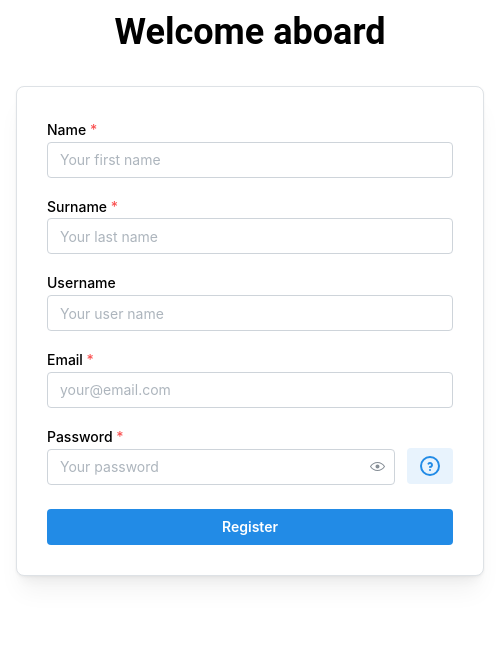
<RegisterForm/> › Handling submit test › should not submit and it will show errors if email or password pattern is not correct
Type "invalid" into the field labelled "Email" at [250, 390], box [47,372,453,408]
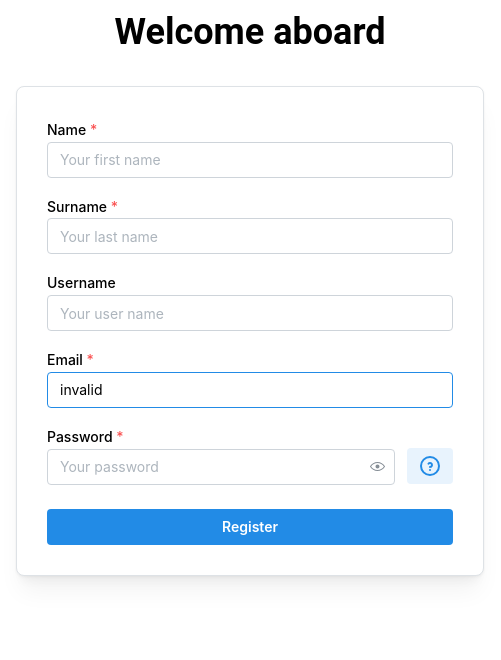
Type "invalid" into the password field with test id "register-password" at [221, 467], box [48,450,394,484]
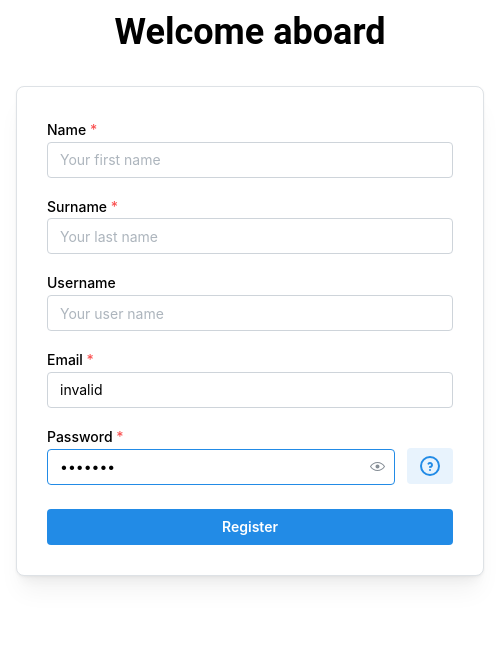
Click the button "Register" at [250, 527], box [47,509,453,545]
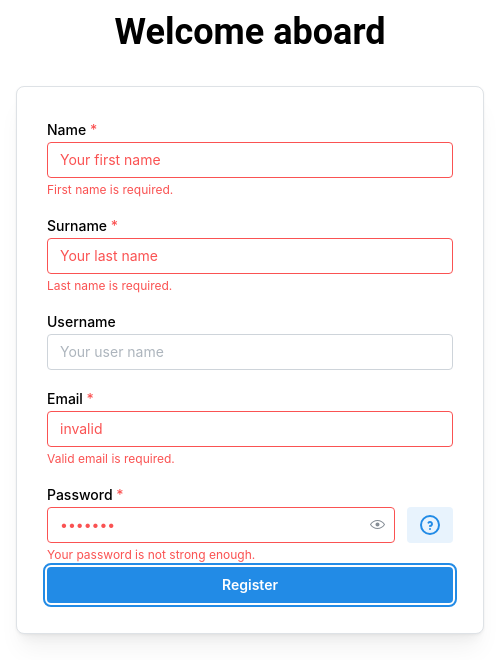
Now the text "Valid email is required." is shown, box [47,451,175,466]
Now the text "Your password is not strong enough." is shown, box [47,547,255,562]
